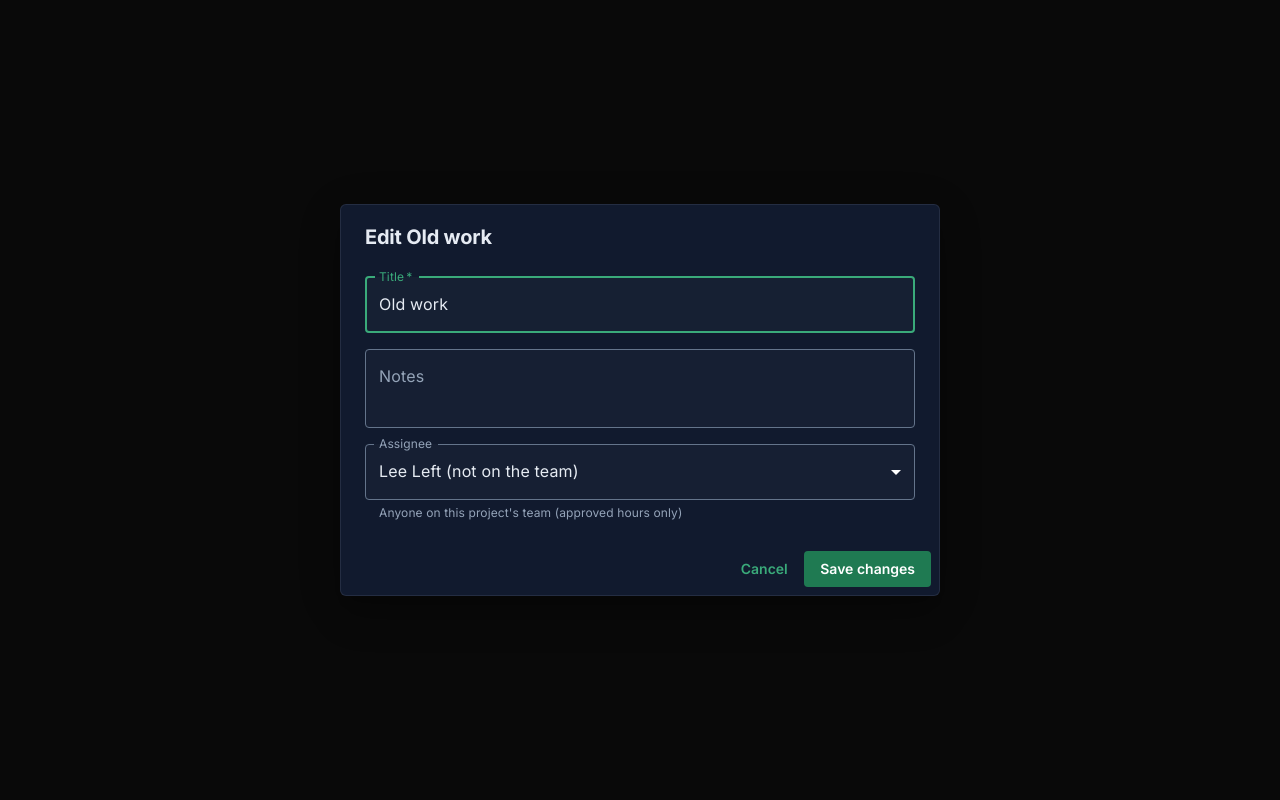
Test: TaskDialog › keeps a former team member selectable on a task they finished
The width and height of the screenshot is (1280, 800).
Click the dropdown named "Assignee" at (479, 471), box [379,461,579,481]
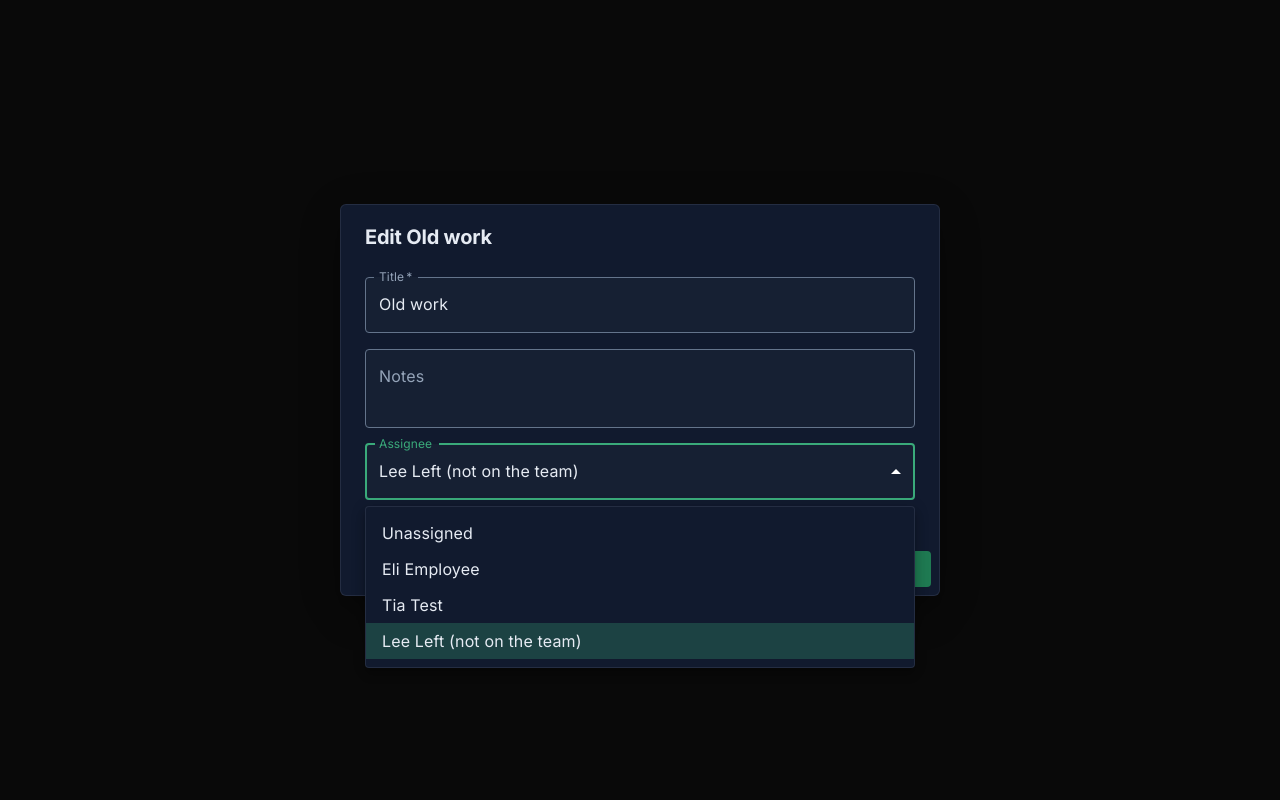
Check: the option "Lee Left (not on the team)" is shown, box [366,623,914,659]
